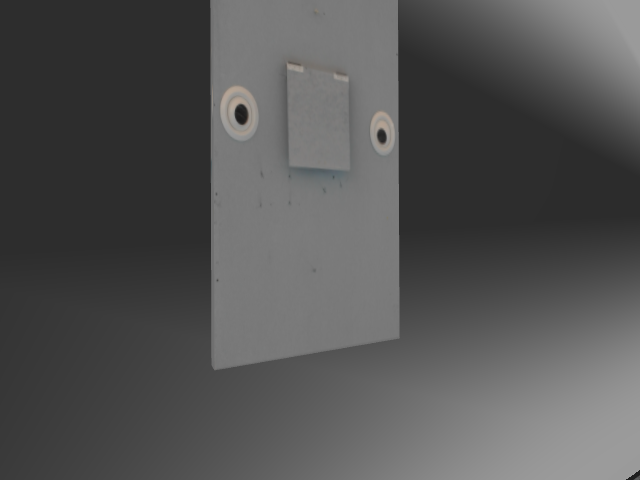facade: (213, 58, 397, 176)
